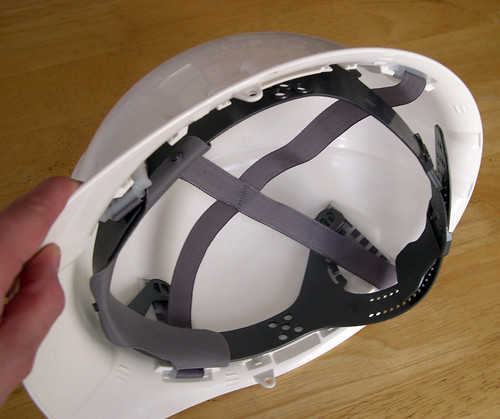hardhat: (12, 29, 484, 419)
